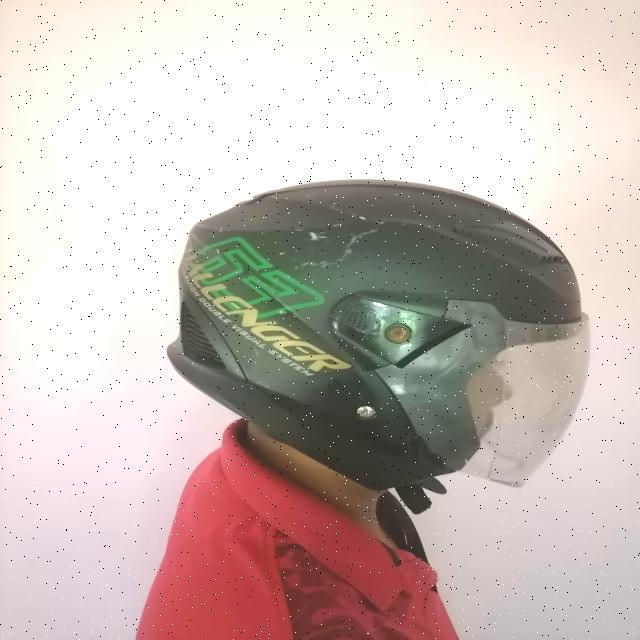helmet: (162, 174, 592, 518)
